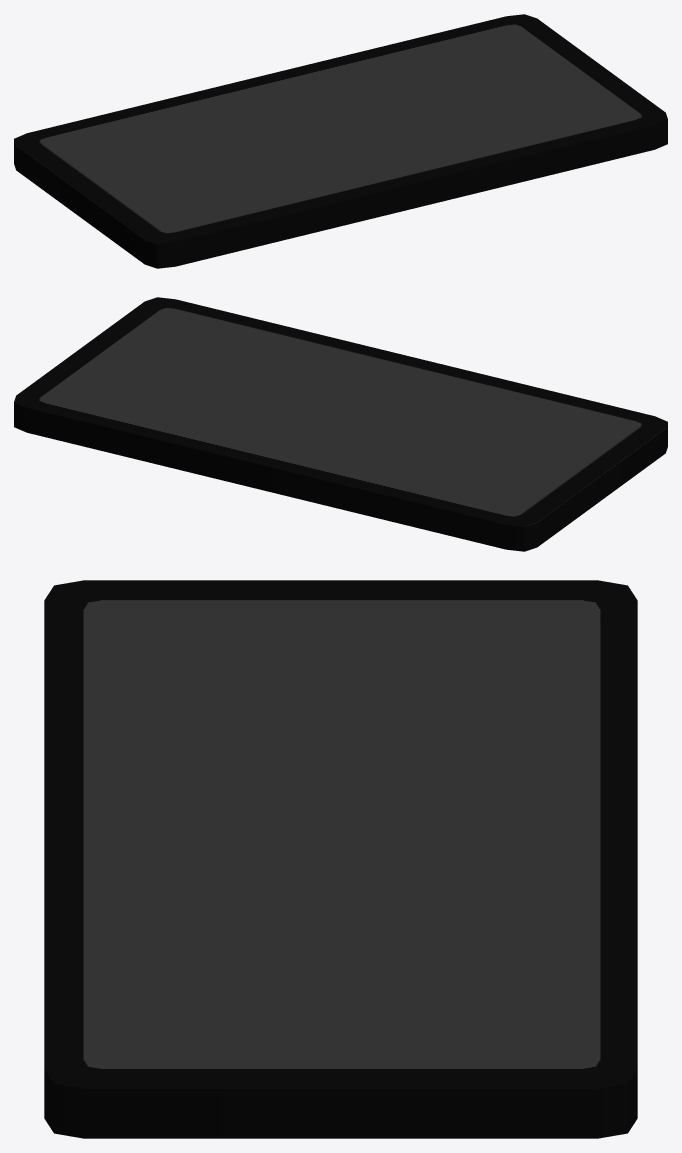
The model's file is Phone_Model.fbx.
3 renders of one model, top to bottom at view 1: azimuth 30°, elevation 25°; view 2: azimuth 150°, elevation 25°; view 3: azimuth 270°, elevation 25°, orthographic. The views are drawn at different scales.
Parts seen in each view (by area): view 1: Box001; view 2: Box001; view 3: Box001.
Boxes of the visible parts, x1,y1,x2,y2 form: Box001: [14, 14, 667, 268]; Box001: [14, 297, 667, 551]; Box001: [44, 580, 637, 1138].
Bounding box in the file's own units: 17.28 × 0.7888 × 8.53.
Materials: 1 (1 with a texture image).
